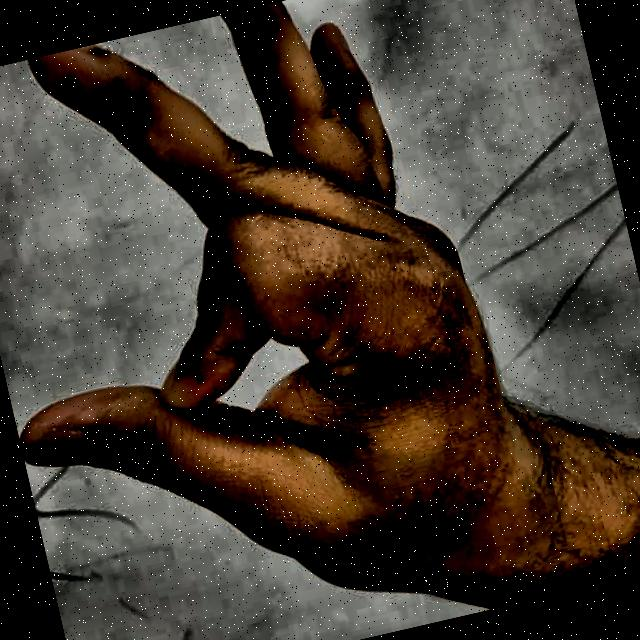Uo: (0, 0, 627, 640)
